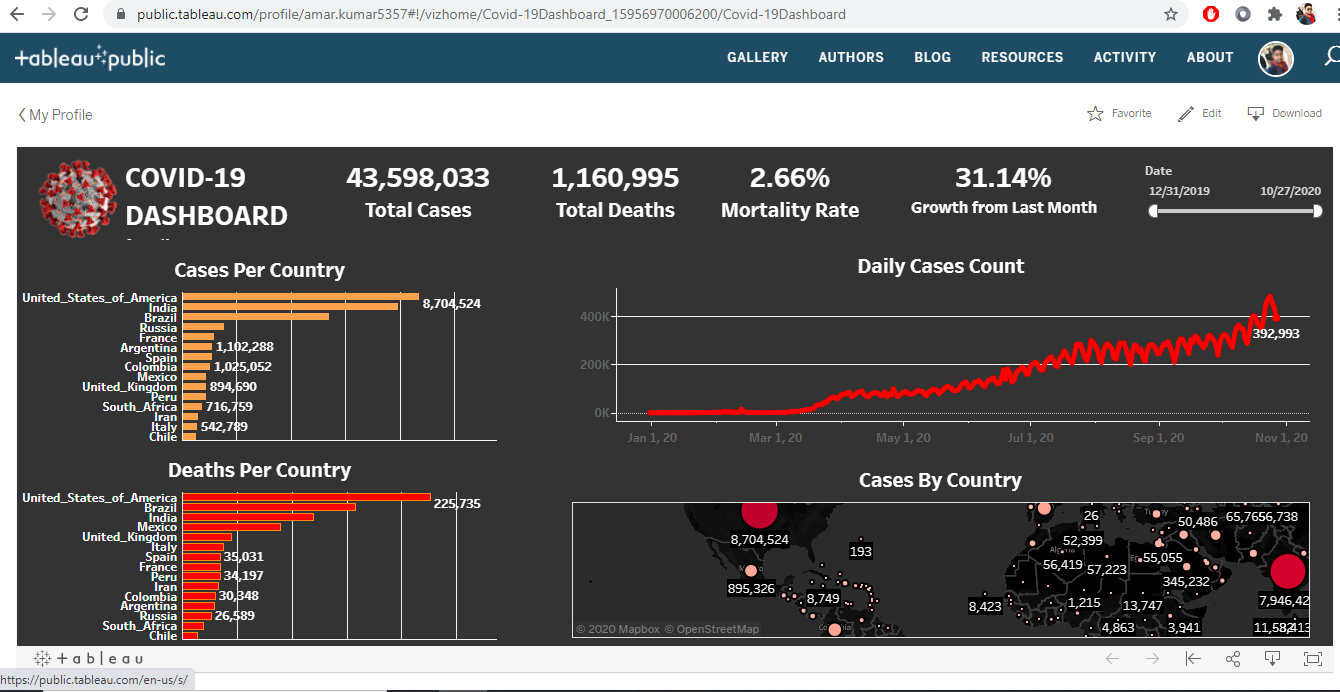

Layout of this report page (visuals, bound fields, positions):
{"tool":"tableau","page":{"name":"Covid-19 Dashboard","canvas":[1000,1000],"units":"permille","ordinal":0},"visuals":[{"type":"worksheet","box":[0,0,1000,1000]},{"type":"worksheet","param":"horz","box":[12.6,11.8,249.1,182.4]},{"type":"worksheet","param":"Image/covid+19_image.png","box":[12.6,11.8,78.2,182.4]},{"type":"worksheet","box":[90.8,11.8,170.9,182.4]},{"type":"worksheet","title":"Total Cases","mark":"Automatic","box":[241.9,11.8,169.1,182.4]},{"type":"worksheet","title":"Total Deaths","mark":"Automatic","box":[399.3,11.8,144.8,182.4]},{"type":"worksheet","title":"Mortality Rate","mark":"Automatic","box":[521.6,11.8,173.6,182.4]},{"type":"worksheet","title":"Growth","mark":"Automatic","box":[670.9,11.8,188,165.5]},{"type":"worksheet","param":"horz","box":[7.2,13.5,985.6,973]},{"type":"worksheet","box":[7.2,13.5,985.6,973]},{"type":"worksheet","title":"Daily Count","mark":"Automatic","rows":["cases"],"cols":["dateRep"],"param":"[federated.0nzysr40dgi5fi166rxw10bcci7y].[none:dateRep:qk]","box":[857,28.7,136.7,116.5]},{"type":"worksheet","param":"vert","box":[419.1,189.2,566.6,802.4]},{"type":"worksheet","title":"Daily Count","mark":"Automatic","rows":["cases"],"cols":["dateRep"],"box":[419.1,189.2,566.6,361.5]},{"type":"worksheet","param":"vert","box":[0.9,196,366.9,800.7]},{"type":"worksheet","title":"Cases per Country","mark":"Automatic","rows":["countriesAndTerritories"],"cols":["cases"],"box":[0.9,196,366.9,400.2]},{"type":"worksheet","title":"World Map","mark":"Automatic","box":[419.1,550.7,566.6,440.9]},{"type":"worksheet","title":"Deaths per Country","mark":"Automatic","rows":["countriesAndTerritories"],"cols":["deaths"],"box":[0.9,596.1,366.9,400.2]}]}

Visuals, with their boxes on the dashboard's canvas, which has no fixed pixel size, in thousandths of its width and height (x1, y1, x2, y2). These are canvas units, not pixel positions in the 1340x692 screenshot, which may show the page scaled, cropped or inside an application window:
worksheet: (0,0,1000,1000)
worksheet: (13,12,262,194)
worksheet: (13,12,91,194)
worksheet: (91,12,262,194)
"Total Cases" worksheet: (242,12,411,194)
"Total Deaths" worksheet: (399,12,544,194)
"Mortality Rate" worksheet: (522,12,695,194)
"Growth" worksheet: (671,12,859,177)
worksheet: (7,14,993,986)
worksheet: (7,14,993,986)
"Daily Count" worksheet: (857,29,994,145)
worksheet: (419,189,986,992)
"Daily Count" worksheet: (419,189,986,551)
worksheet: (1,196,368,997)
"Cases per Country" worksheet: (1,196,368,596)
"World Map" worksheet: (419,551,986,992)
"Deaths per Country" worksheet: (1,596,368,996)
